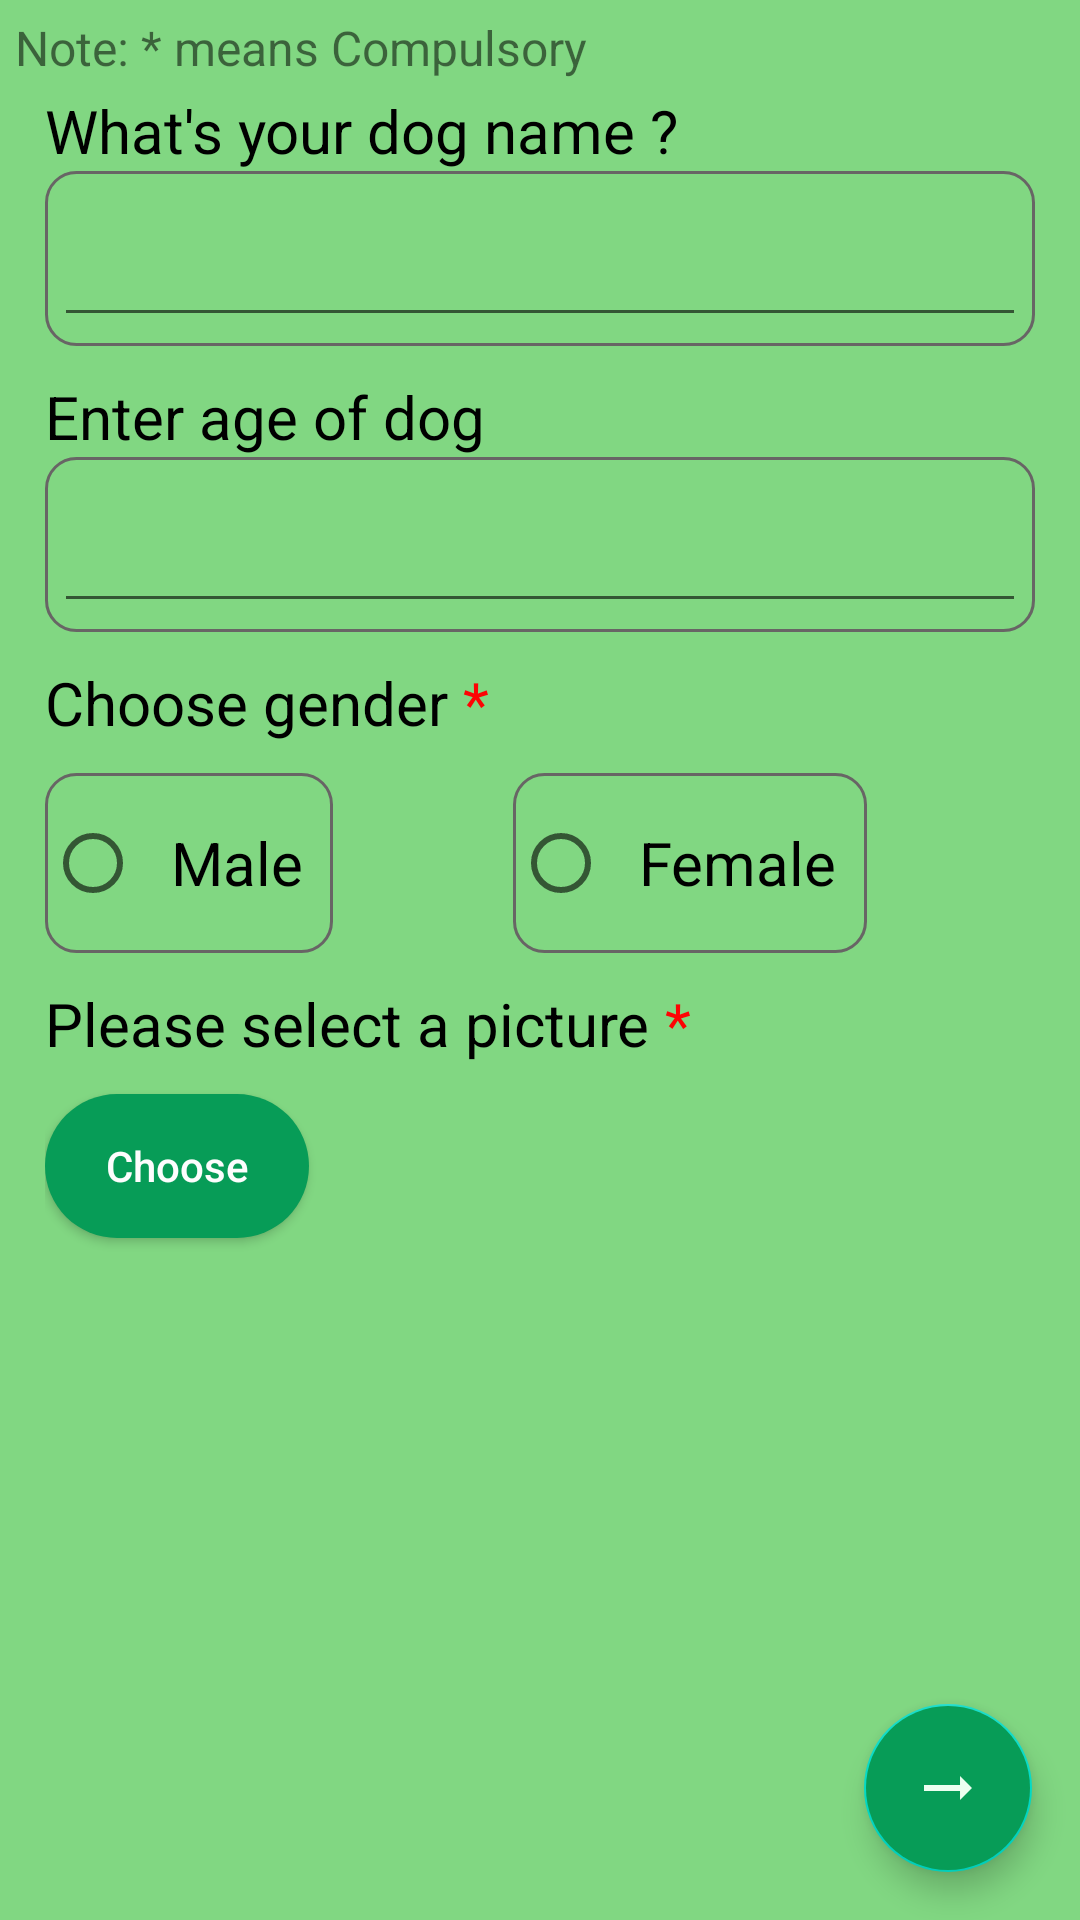

Locate icon controls on the screen. Image size 1080x1920, boxes as rect(x1, y1, x2, y2).
submit: rect(864, 1704, 1032, 1872)
